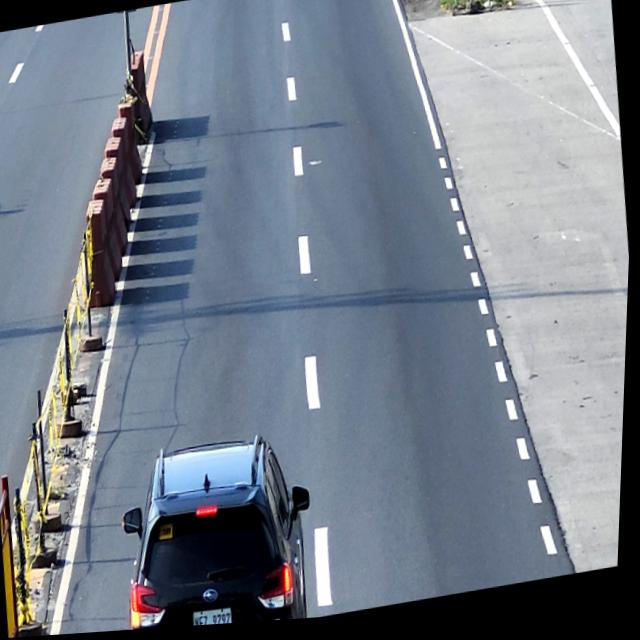Car: (115, 426, 328, 633)
License-Plate: (197, 609, 237, 629)
